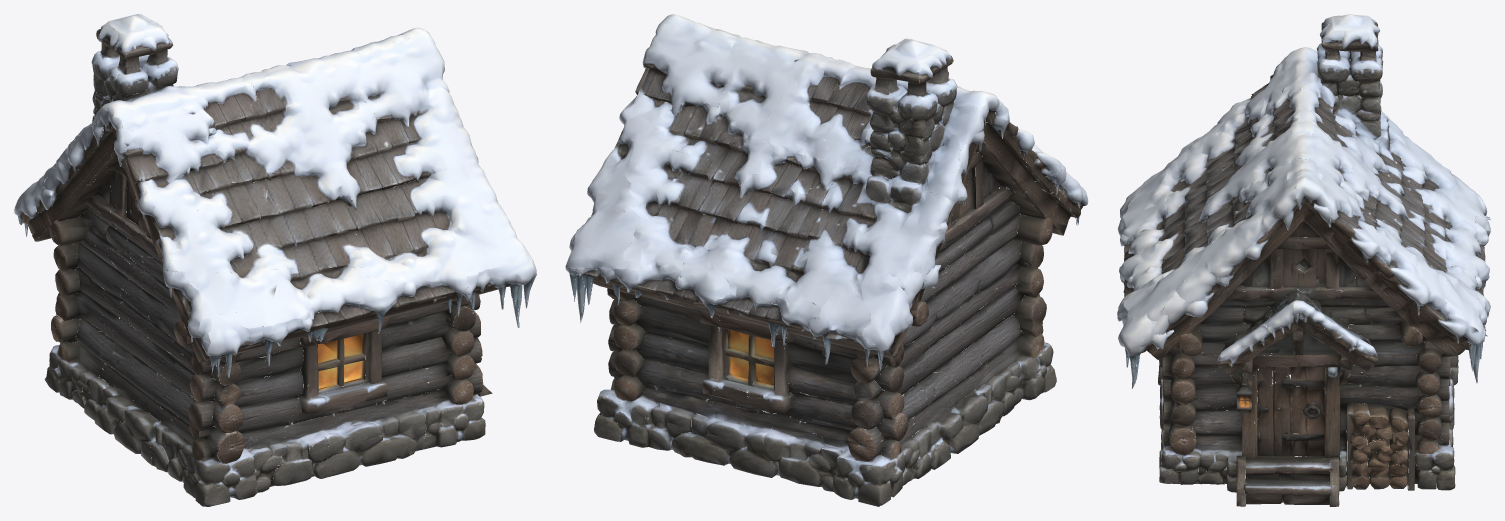
The model's file is mountain-hut-tripo.glb.
3 renders of one model, left to right at view 1: azimuth 30°, elevation 25°; view 2: azimuth 150°, elevation 25°; view 3: azimuth 270°, elevation 25°, orthographic. The views are drawn at different scales.
Parts seen in each view (by area): view 1: tripo_node_2e95321e-5dde-4cf7-8d8c-5d97d64e7dbf; view 2: tripo_node_2e95321e-5dde-4cf7-8d8c-5d97d64e7dbf; view 3: tripo_node_2e95321e-5dde-4cf7-8d8c-5d97d64e7dbf.
Part boxes in pixels (x1,y1,x2,y2): tripo_node_2e95321e-5dde-4cf7-8d8c-5d97d64e7dbf: [14, 14, 536, 506]; tripo_node_2e95321e-5dde-4cf7-8d8c-5d97d64e7dbf: [565, 14, 1088, 506]; tripo_node_2e95321e-5dde-4cf7-8d8c-5d97d64e7dbf: [1117, 14, 1490, 506].
Bounding box in the file's own units: 0.9188 × 1 × 0.9291.
Materials: 1 (1 with a texture image).
